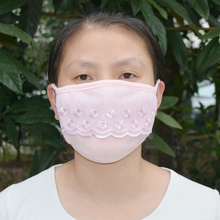face_mask: (58, 26, 152, 163)
